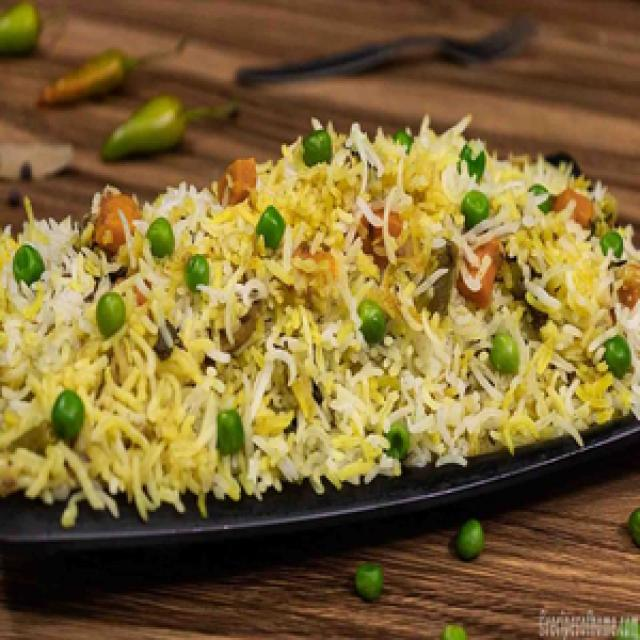chicken biriyani: (0, 107, 640, 530)
